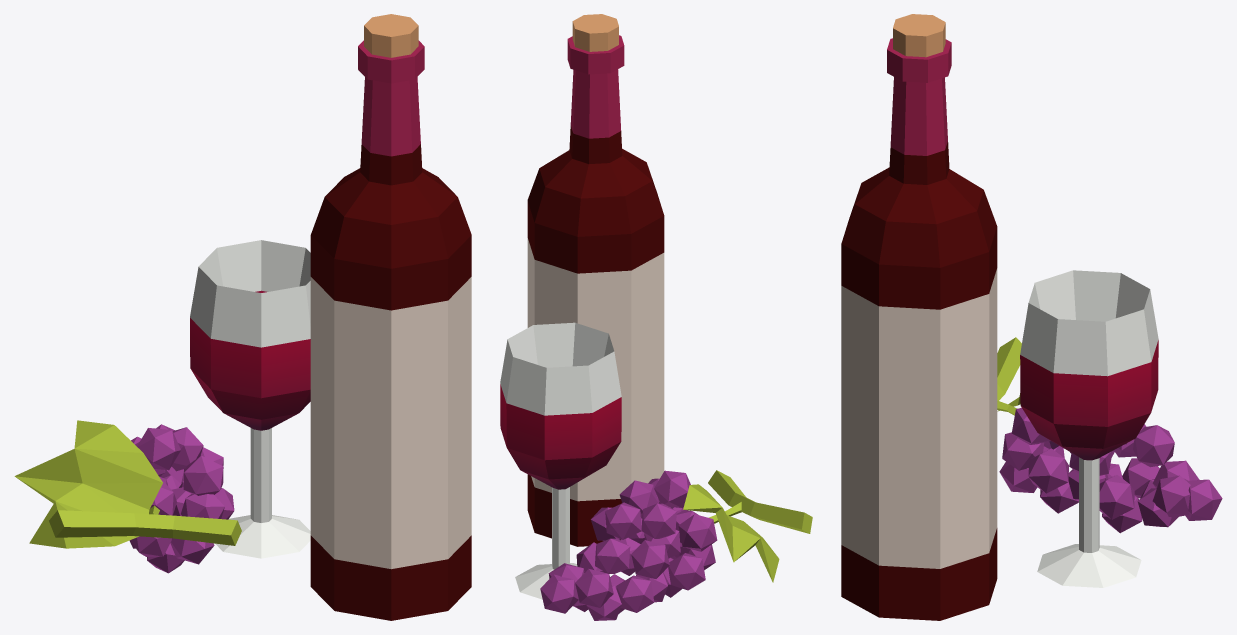
File: wineSet.FBX
3 views of the same model, side by side, from view 1: azimuth 30°, elevation 25°; view 2: azimuth 150°, elevation 25°; view 3: azimuth 270°, elevation 25° (orthographic). The views are drawn at different scales.
Visible parts, largest first — view 1: wineSet; view 2: wineSet; view 3: wineSet.
Part boxes in pixels (box(x1,y1,x2,y2)): wineSet: box(14, 14, 471, 620); wineSet: box(500, 14, 812, 620); wineSet: box(841, 14, 1222, 620).
Size of the model in its own units: 5.79 by 8.72 by 5.34.
